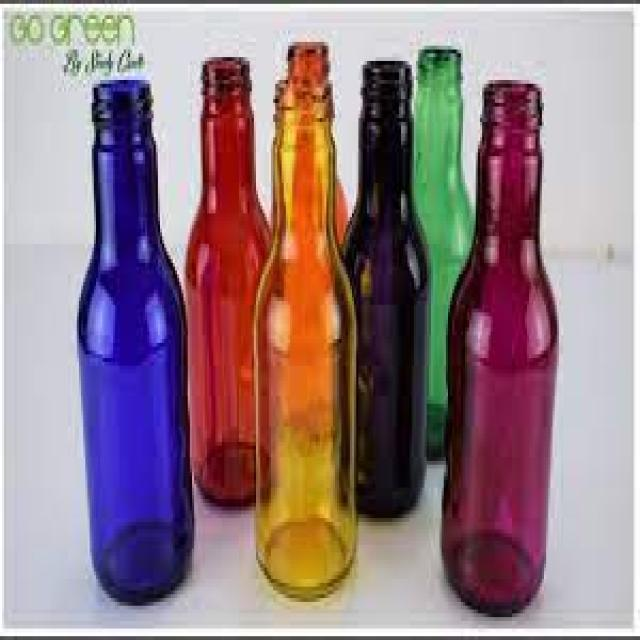Vidrio: (75, 85, 197, 610), (438, 80, 557, 611), (255, 57, 360, 596), (341, 66, 432, 523), (185, 59, 271, 506), (409, 52, 473, 464)
